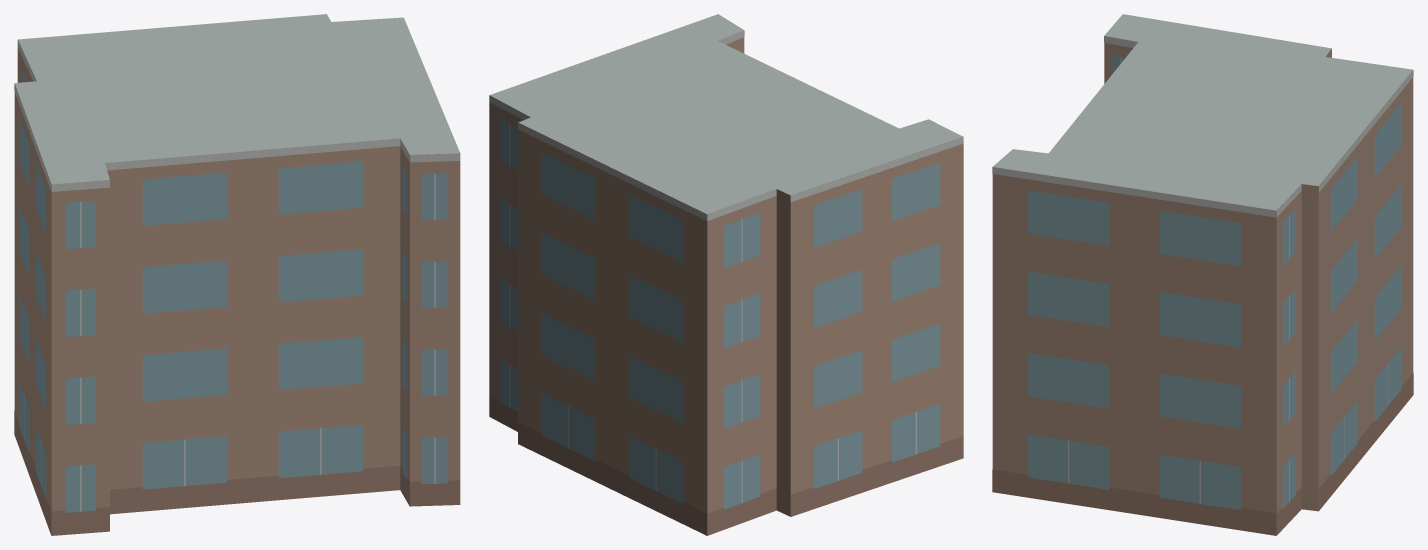
File: survey-upis-32997386.glb
The picture shows the model from 3 angles, left to right: view 1: azimuth 30°, elevation 25°; view 2: azimuth 150°, elevation 25°; view 3: azimuth 270°, elevation 25°; orthographic projection. The views are drawn at different scales.
Visible parts, largest first — view 1: survey-upis-32997386.tmp; view 2: survey-upis-32997386.tmp; view 3: survey-upis-32997386.tmp.
Boxes of the visible parts, x1,y1,x2,y2 form: survey-upis-32997386.tmp: (14,14,460,535); survey-upis-32997386.tmp: (489,14,963,535); survey-upis-32997386.tmp: (992,14,1413,535).
Size of the model in its own units: 14.79 by 11.4 by 13.38.
